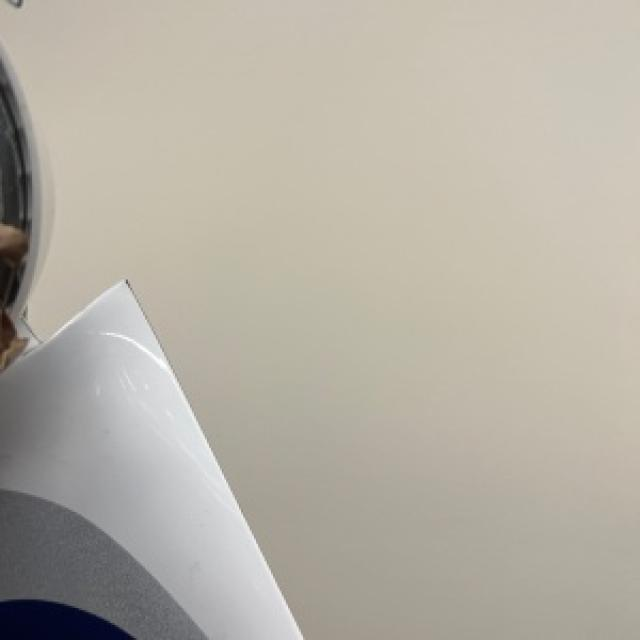healthy: (0, 43, 299, 638)
